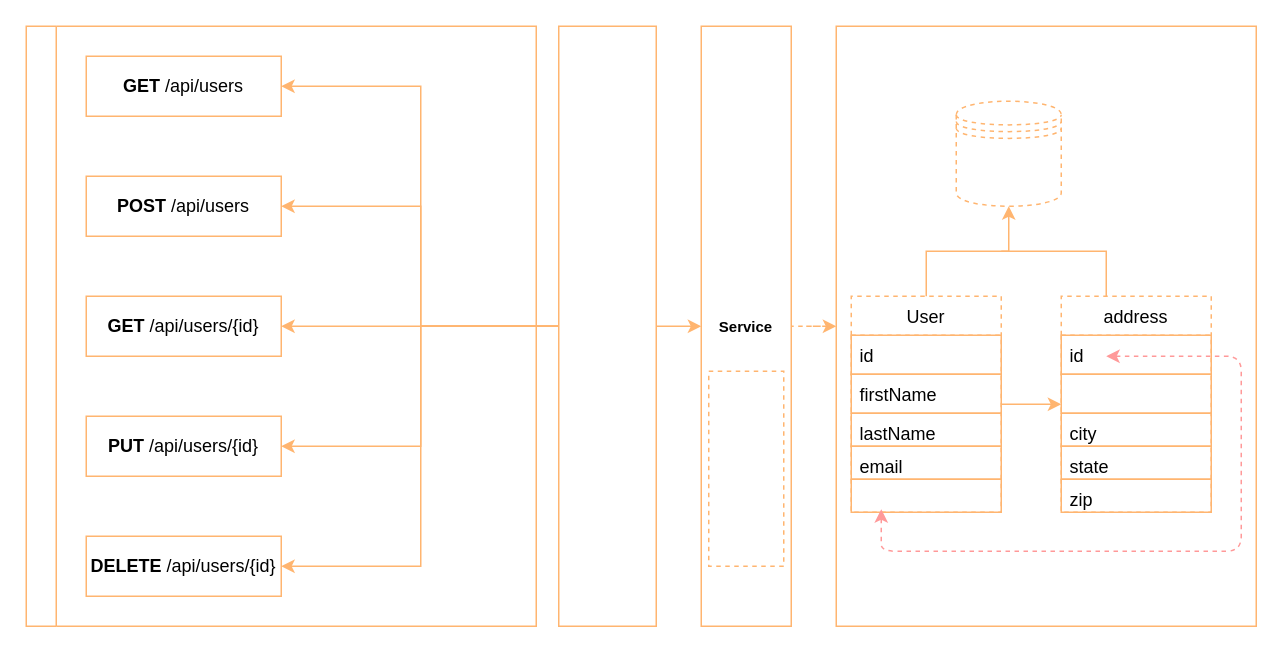
The diagram is 1283 pixels wide and 653 high, and some of its shapes have lost their labels. Each missing label, with the centre of its shape:
addressId: (925,495)
Controller: (606,325)
DB: (1008,153)
JPA: (745,468)
street: (1135,393)
